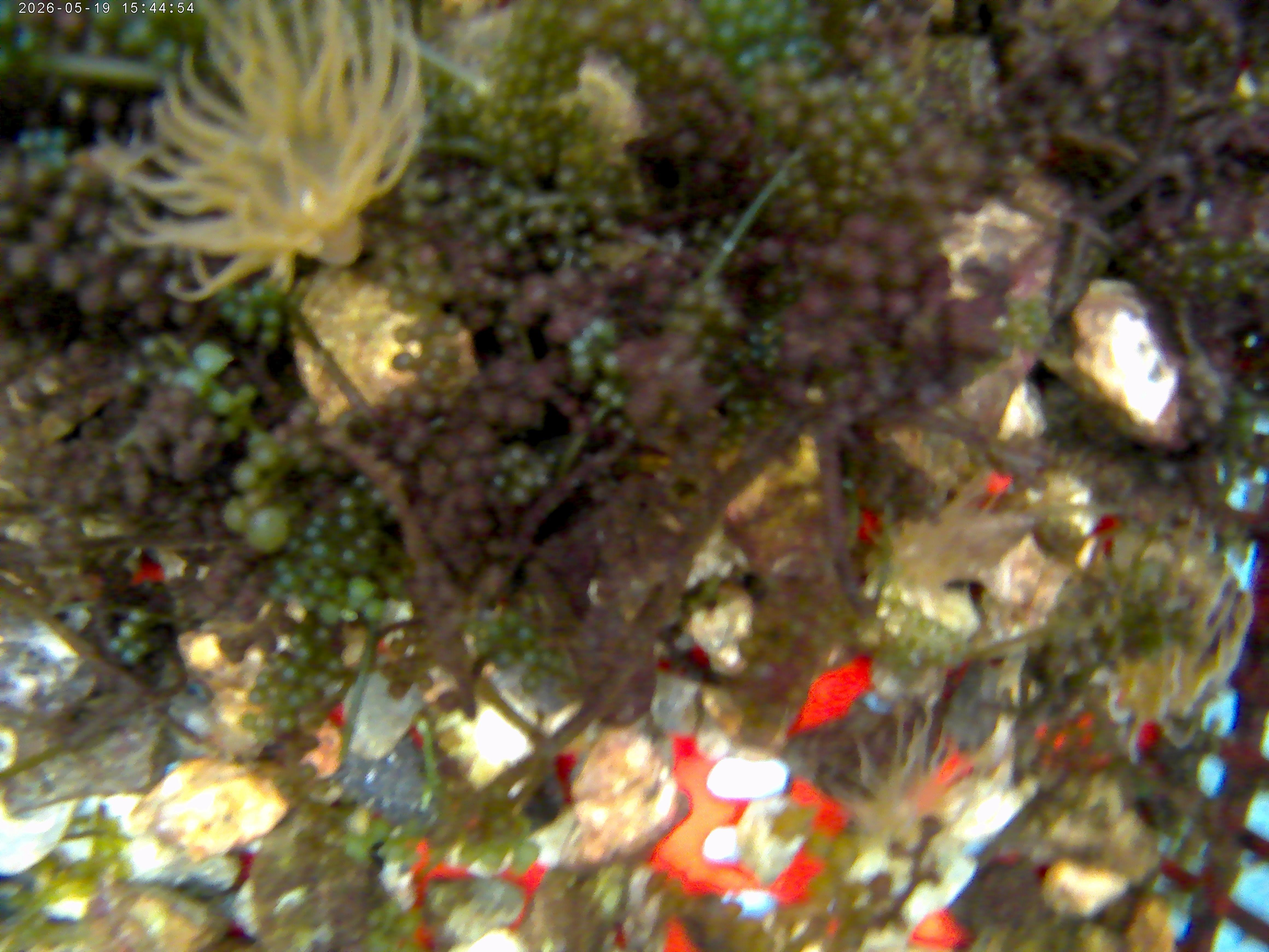Darkening: (625, 384, 663, 424), (794, 287, 838, 320), (77, 275, 115, 313), (66, 164, 106, 199), (883, 255, 919, 292), (115, 267, 151, 304), (48, 255, 84, 291), (486, 356, 522, 391), (778, 375, 812, 411), (782, 337, 814, 375), (30, 224, 69, 255), (843, 251, 878, 285), (4, 243, 38, 278), (465, 423, 496, 460), (844, 212, 879, 244), (819, 332, 850, 368), (504, 397, 532, 436), (431, 518, 464, 550), (522, 276, 551, 311), (51, 191, 80, 226), (434, 432, 462, 468), (457, 482, 488, 514), (853, 288, 883, 319), (881, 226, 913, 255), (705, 134, 738, 162), (885, 291, 914, 322), (606, 18, 637, 47), (477, 391, 503, 425), (787, 238, 817, 266), (557, 271, 585, 300), (876, 673, 904, 702), (972, 294, 999, 323), (59, 88, 86, 117), (620, 343, 643, 377), (419, 467, 450, 492), (925, 269, 953, 296), (92, 97, 120, 124), (546, 315, 572, 344), (964, 152, 988, 183), (643, 282, 671, 308), (911, 183, 937, 211), (898, 151, 923, 180), (526, 369, 552, 396), (469, 515, 498, 539), (75, 210, 101, 236), (287, 434, 313, 460), (949, 324, 974, 351), (617, 262, 643, 286), (161, 271, 185, 297), (684, 89, 708, 114), (67, 341, 92, 365), (675, 130, 700, 154), (466, 308, 492, 331), (663, 37, 686, 63), (646, 27, 669, 53), (700, 107, 722, 134), (946, 299, 970, 323), (454, 457, 478, 481), (758, 239, 783, 262), (136, 303, 161, 326), (695, 162, 720, 185), (922, 293, 945, 317), (484, 242, 508, 265), (170, 303, 194, 326), (412, 392, 436, 415), (809, 117, 833, 140), (786, 685, 810, 708), (393, 442, 417, 465), (193, 417, 216, 441), (301, 449, 325, 472), (721, 309, 745, 332), (592, 275, 615, 298), (96, 234, 119, 257), (326, 454, 349, 477), (479, 277, 503, 299), (752, 661, 776, 683), (1157, 462, 1180, 484), (679, 58, 702, 80), (387, 386, 408, 410), (393, 351, 415, 373), (43, 356, 65, 378), (784, 62, 807, 83), (975, 343, 1000, 362), (853, 81, 874, 103), (758, 63, 779, 85), (418, 245, 439, 266), (731, 120, 751, 142), (299, 733, 320, 753), (591, 295, 611, 315), (517, 251, 537, 271), (1031, 141, 1051, 161), (152, 495, 172, 514), (836, 106, 855, 126), (1204, 370, 1224, 389), (496, 324, 516, 343), (199, 507, 218, 526), (1189, 423, 1208, 442), (387, 681, 408, 698), (438, 692, 459, 709), (700, 336, 719, 354), (510, 487, 529, 505), (438, 394, 456, 413), (705, 62, 721, 83), (1000, 175, 1018, 193), (560, 399, 579, 416), (224, 368, 242, 385), (1229, 161, 1246, 179), (571, 415, 587, 434), (760, 281, 777, 298), (191, 484, 208, 500), (1175, 296, 1192, 312), (119, 318, 135, 334), (717, 417, 733, 433), (480, 457, 496, 473), (274, 426, 289, 443), (1158, 226, 1174, 241), (383, 663, 399, 678), (774, 593, 789, 608), (469, 266, 484, 281), (607, 417, 622, 431), (214, 484, 228, 498)
Harvestable: (120, 14, 158, 51), (194, 341, 228, 376), (347, 574, 377, 603), (153, 37, 181, 67), (208, 389, 237, 416), (222, 502, 248, 532), (233, 462, 260, 489), (95, 833, 122, 860), (297, 706, 326, 731), (176, 368, 206, 392), (254, 443, 280, 470), (14, 27, 40, 54), (64, 167, 90, 193), (396, 912, 421, 938), (27, 51, 53, 76), (456, 93, 480, 120), (45, 148, 70, 173), (868, 103, 893, 128), (401, 200, 426, 225), (22, 162, 48, 186), (590, 317, 616, 341), (555, 51, 580, 75), (716, 22, 740, 47), (318, 600, 342, 625), (363, 598, 387, 622), (556, 166, 579, 191), (833, 137, 856, 161), (860, 147, 884, 170), (377, 239, 400, 263), (235, 307, 257, 332), (275, 712, 298, 735), (49, 128, 72, 151), (258, 327, 281, 350), (889, 125, 911, 149), (285, 688, 307, 712), (530, 35, 550, 61), (389, 289, 412, 311), (31, 128, 53, 151), (383, 574, 405, 597), (0, 46, 16, 77), (310, 540, 332, 562), (823, 76, 845, 98), (756, 14, 778, 36), (370, 819, 392, 841), (278, 570, 301, 591), (413, 274, 436, 295), (511, 5, 535, 25), (0, 1, 16, 30), (538, 3, 560, 24), (1210, 234, 1231, 256), (797, 180, 819, 201), (739, 638, 761, 659), (436, 278, 457, 300), (294, 643, 315, 665), (505, 34, 528, 54), (535, 138, 555, 161), (572, 354, 592, 377), (0, 206, 18, 231), (124, 364, 145, 385), (790, 13, 811, 34), (495, 648, 516, 669), (299, 683, 320, 704), (248, 428, 269, 449), (337, 491, 358, 512), (505, 189, 526, 210), (236, 383, 257, 404), (740, 12, 760, 34), (601, 353, 621, 375), (478, 211, 498, 233), (722, 0, 747, 17), (520, 61, 541, 81), (561, 75, 582, 95), (262, 308, 283, 328), (789, 619, 809, 640), (17, 130, 37, 151), (770, 1, 790, 22), (607, 0, 637, 14), (685, 20, 706, 40), (666, 4, 686, 25), (500, 62, 520, 82), (339, 512, 359, 532), (281, 664, 301, 684), (383, 268, 403, 288), (781, 40, 801, 60), (313, 626, 333, 646), (312, 670, 332, 690), (543, 63, 562, 84), (485, 173, 504, 194), (140, 337, 160, 356), (625, 42, 644, 62), (642, 57, 661, 77), (496, 81, 516, 100), (753, 42, 773, 61), (312, 577, 331, 597), (370, 220, 389, 240), (298, 763, 318, 782), (1210, 263, 1230, 282), (251, 282, 270, 302), (898, 94, 917, 114), (505, 226, 523, 247), (221, 422, 240, 441), (801, 202, 820, 221), (513, 133, 533, 151), (571, 106, 589, 126), (737, 51, 755, 71), (831, 187, 851, 205), (1236, 391, 1256, 409), (491, 98, 510, 116), (220, 300, 238, 319), (340, 548, 358, 567), (118, 622, 137, 640), (503, 609, 521, 628), (595, 381, 613, 400), (546, 116, 564, 135), (489, 125, 507, 144), (326, 656, 344, 675), (354, 535, 373, 553), (700, 0, 722, 15), (835, 165, 853, 183), (249, 688, 267, 706), (479, 111, 497, 129), (245, 491, 263, 509), (508, 154, 525, 173), (403, 230, 422, 247), (517, 626, 535, 643), (852, 125, 869, 143), (790, 164, 808, 181), (1242, 101, 1260, 118), (1239, 274, 1256, 291), (122, 647, 139, 664), (256, 671, 273, 688), (878, 166, 895, 183), (1186, 264, 1203, 281), (805, 58, 822, 75), (558, 131, 575, 148), (522, 95, 540, 111), (543, 85, 563, 99), (394, 327, 410, 344), (107, 637, 124, 653), (319, 565, 336, 581), (523, 649, 539, 665), (571, 338, 587, 354), (510, 98, 525, 115), (849, 188, 866, 203), (305, 525, 321, 540), (242, 713, 257, 729), (734, 432, 749, 448), (740, 414, 756, 429), (817, 155, 832, 171), (755, 0, 776, 11), (504, 120, 519, 135), (534, 126, 549, 141), (280, 784, 295, 799), (516, 80, 530, 95), (855, 173, 870, 187), (717, 437, 731, 452), (353, 475, 368, 489), (793, 0, 810, 12), (493, 474, 507, 488), (539, 160, 552, 174), (611, 393, 624, 407)
